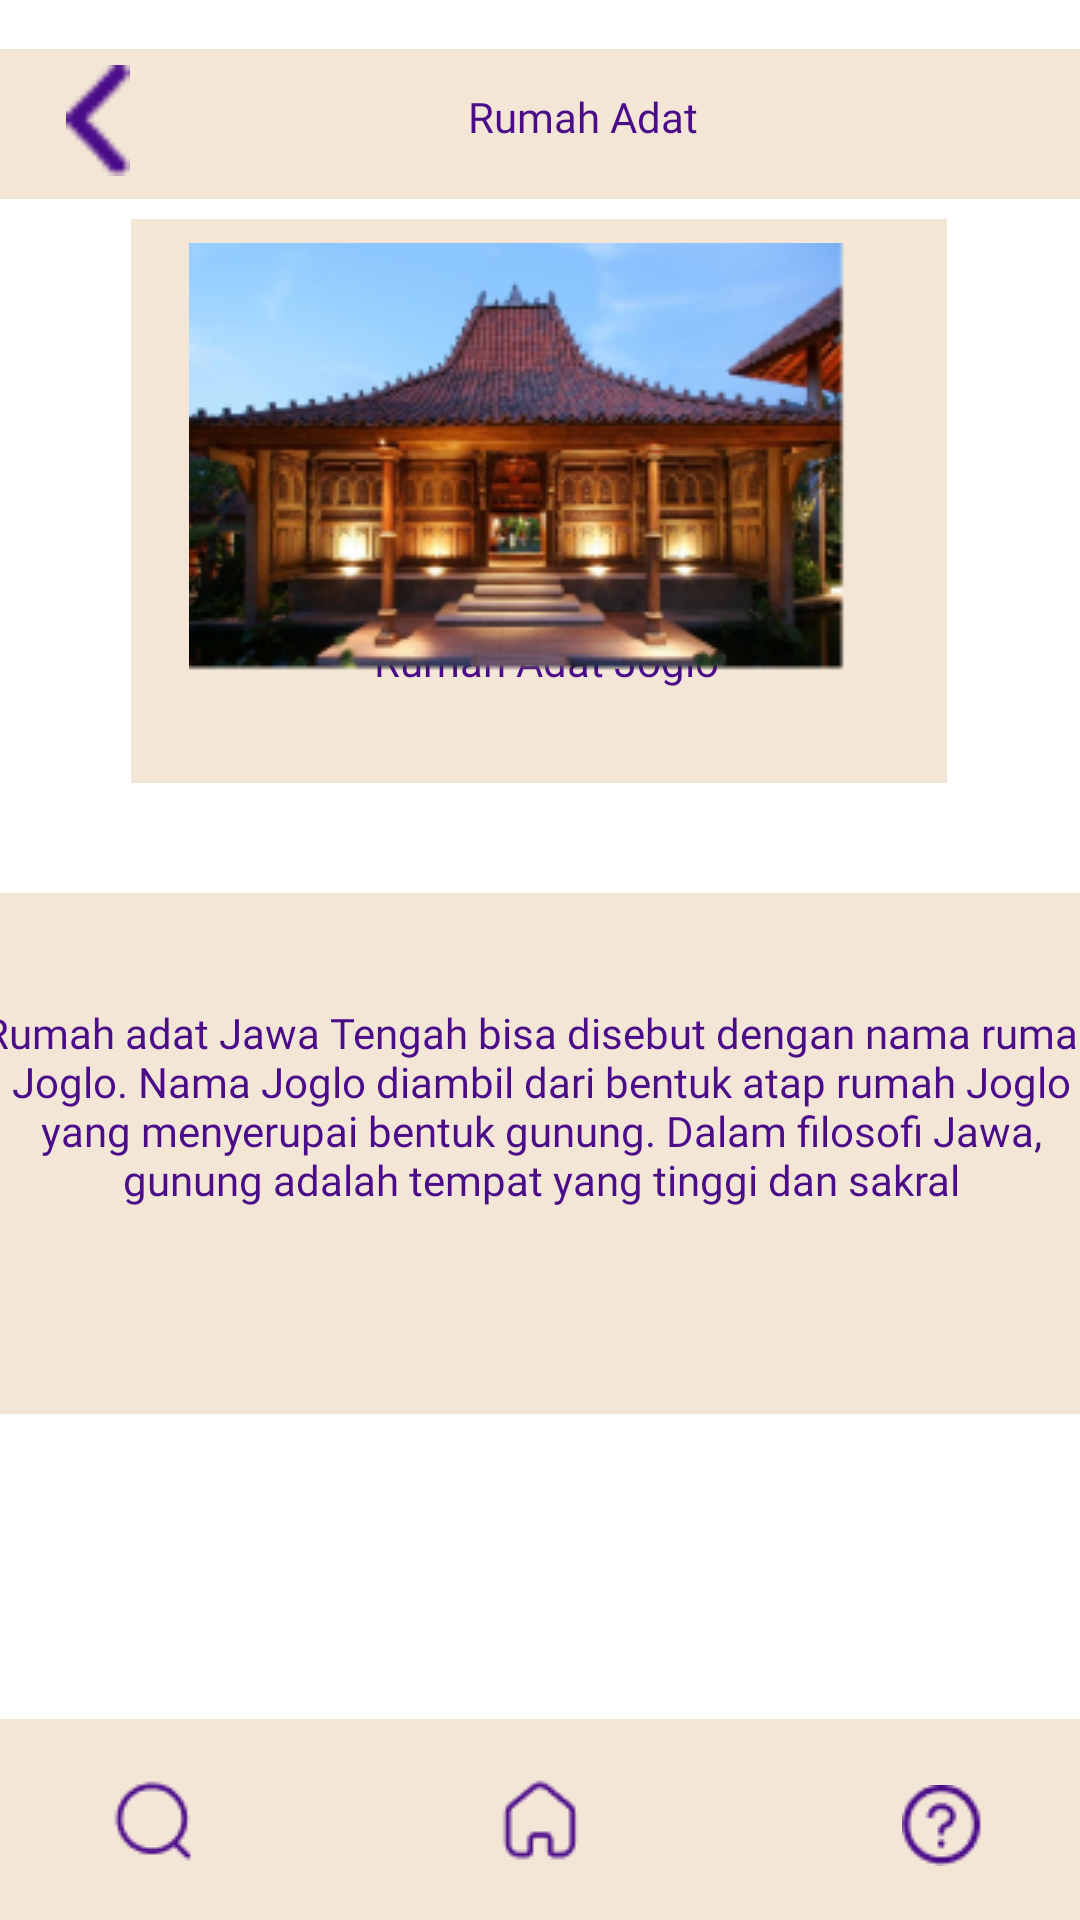

Point at icon controls on the screen. Image size 1080px x 1920px, points as (x,y).
homeee: (540,1820)
tanya: (941,1825)
xearch: (152,1821)
